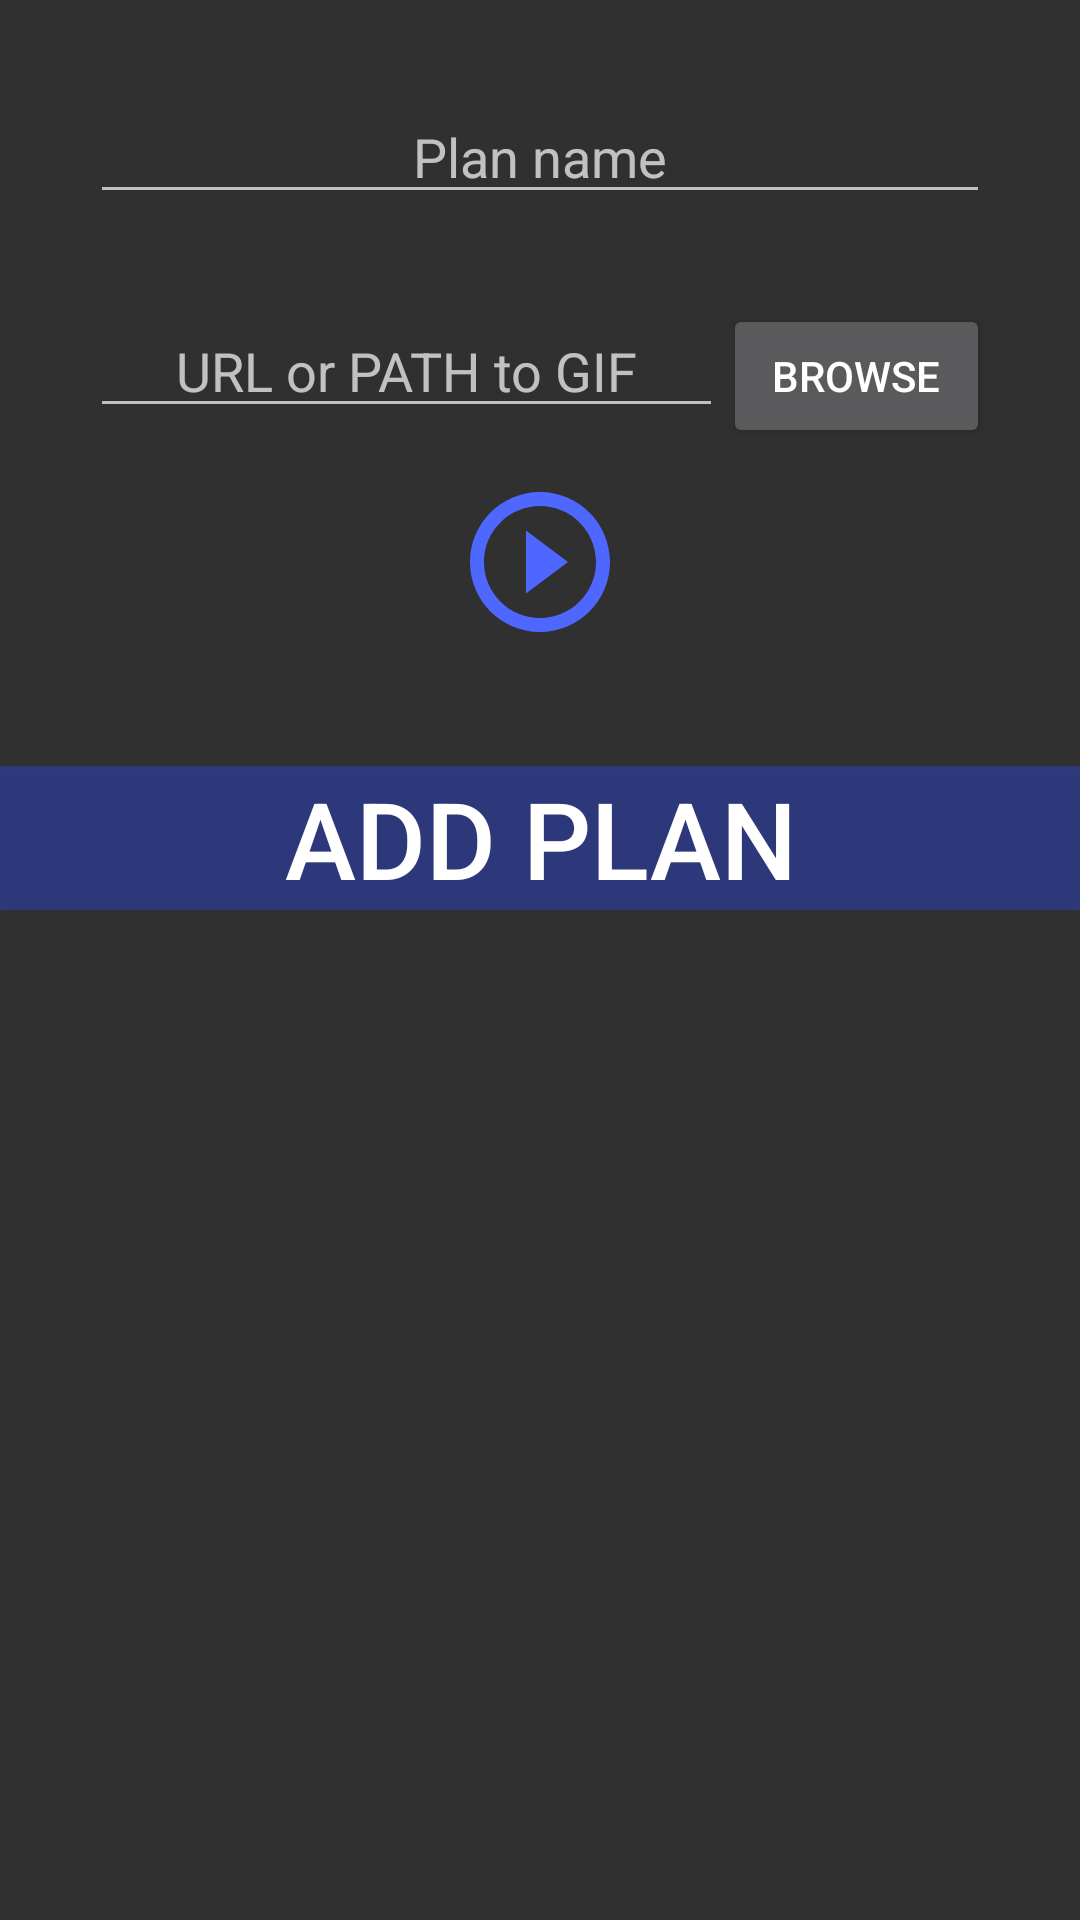

Named icons in this screenshot (1080 x 1920) and their bounding boxes, (left=x1, top=y1, right=x2, bottom=y2):
play: (left=470, top=492, right=610, bottom=632)
